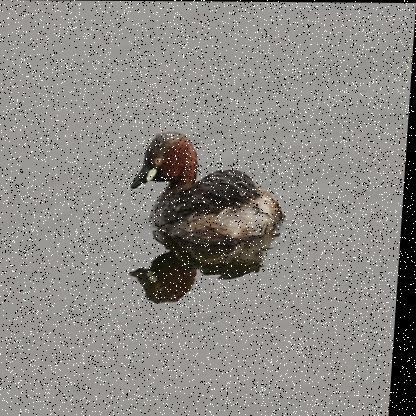Burung: (127, 131, 293, 236)
